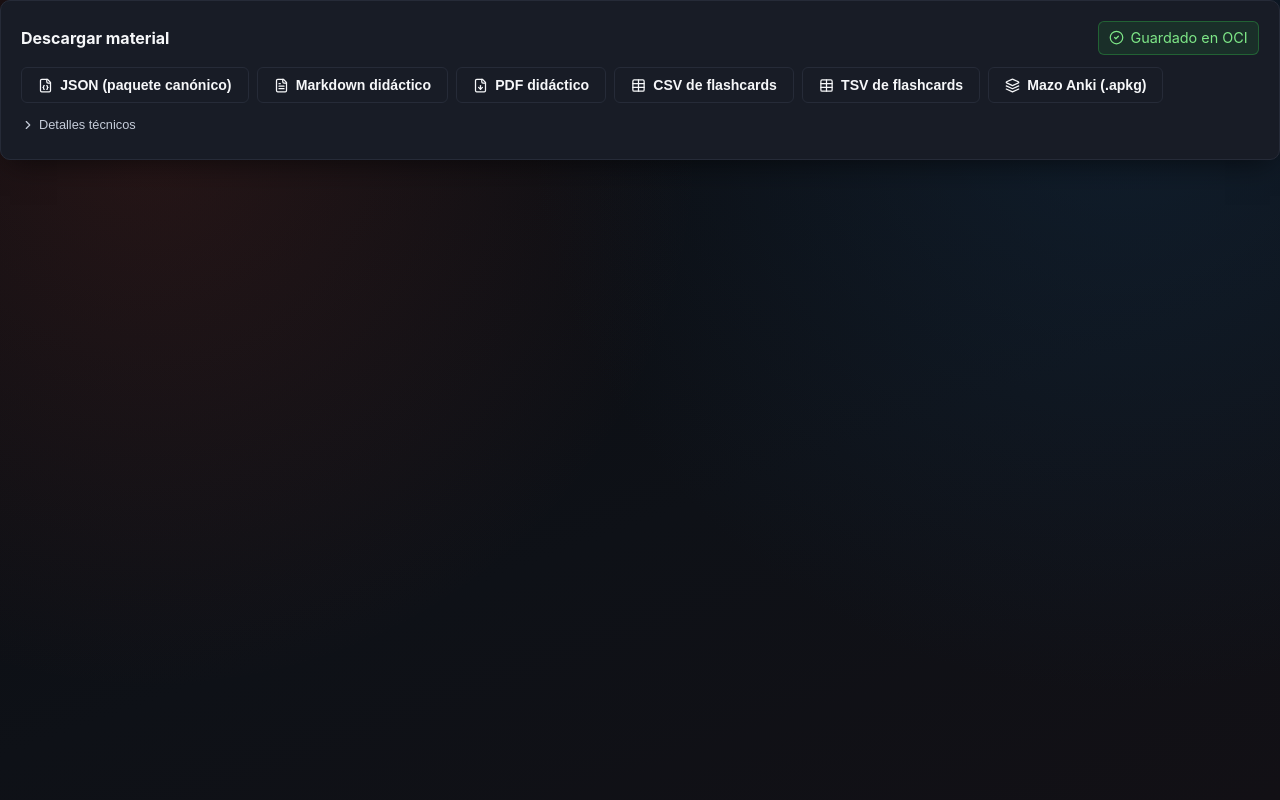
Test: descargas multiformato › muestra «Guardado» solo con OCI confirmado y bucket/objeto solo en detalles técnicos
Check: the text "Guardado en OCI" is shown, box [1098,21,1259,55]
Check: the text "nuevamente-contenidos-educativos" is not shown
Click the button "Detalles técnicos": (78,125) [21,117,136,132]
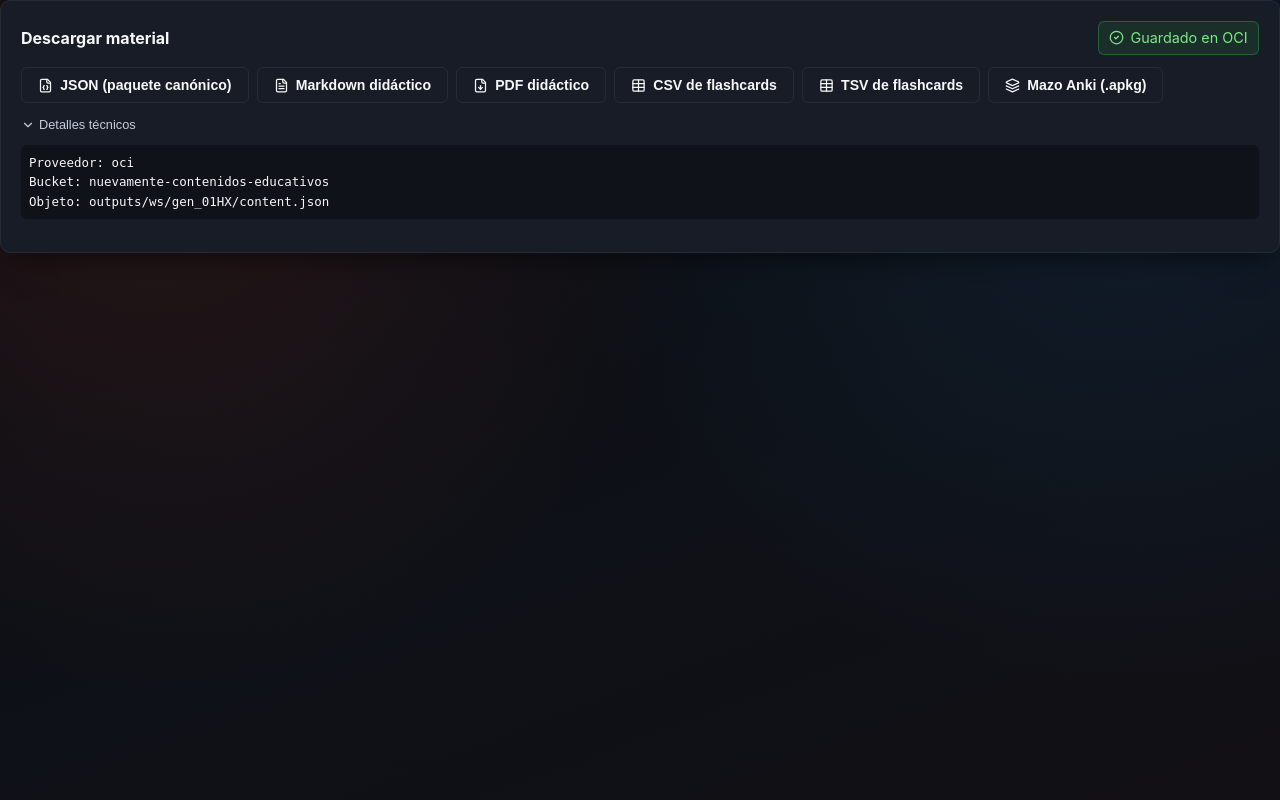
Check: the text "outputs/ws/gen_01HX/content.json" is shown, box [29,155,329,209]
